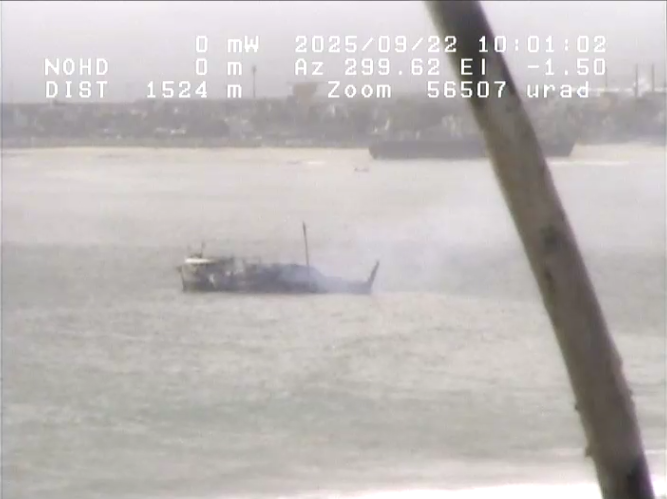FISHING_VESSEL: (158, 219, 418, 315)
